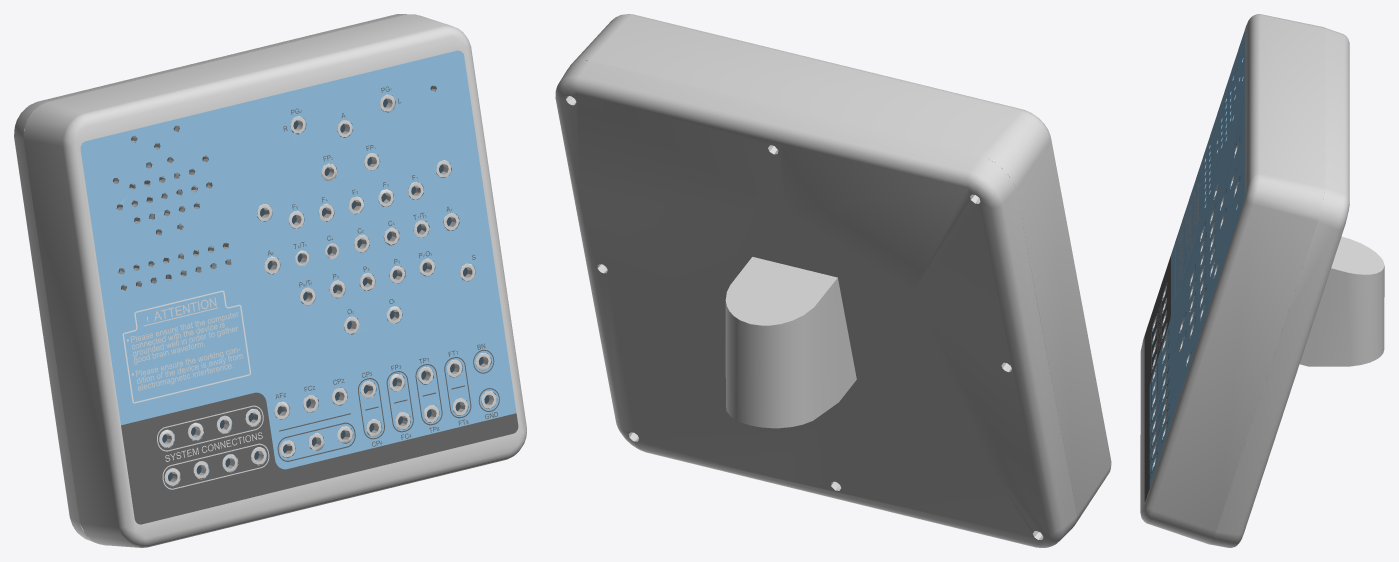
The model's file is EEG32.glb.
3 renders of one model, left to right at view 1: azimuth 30°, elevation 25°; view 2: azimuth 150°, elevation 25°; view 3: azimuth 270°, elevation 25°, orthographic. The views are drawn at different scales.
Visible parts, largest first — view 1: EEG - 32.002, EEG - 32, EEG - 32.001; view 2: EEG - 32; view 3: EEG - 32, EEG - 32.002, EEG - 32.001.
Part boxes in pixels (<box>): EEG - 32.002: <box>78,50,516,508</box>; EEG - 32: <box>14,14,526,547</box>; EEG - 32.001: <box>121,392,518,524</box>; EEG - 32: <box>555,14,1111,547</box>; EEG - 32: <box>1140,14,1384,547</box>; EEG - 32.002: <box>1149,30,1245,487</box>; EEG - 32.001: <box>1144,256,1170,501</box>.
Bounding box in the file's own units: 0.1943 × 0.1853 × 0.11.
